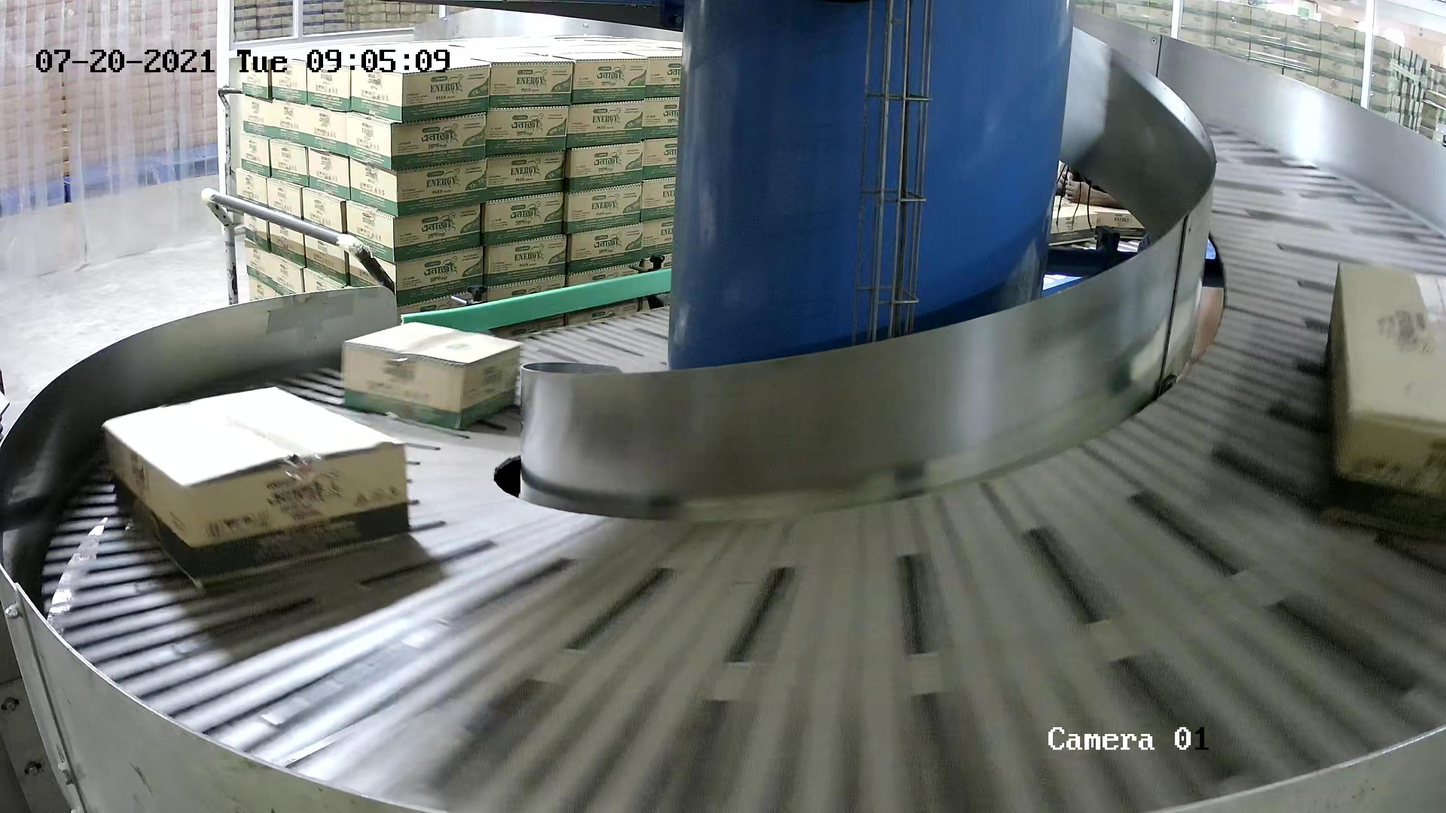Box: (100, 385, 411, 587), (1325, 259, 1446, 535), (341, 321, 523, 431)
